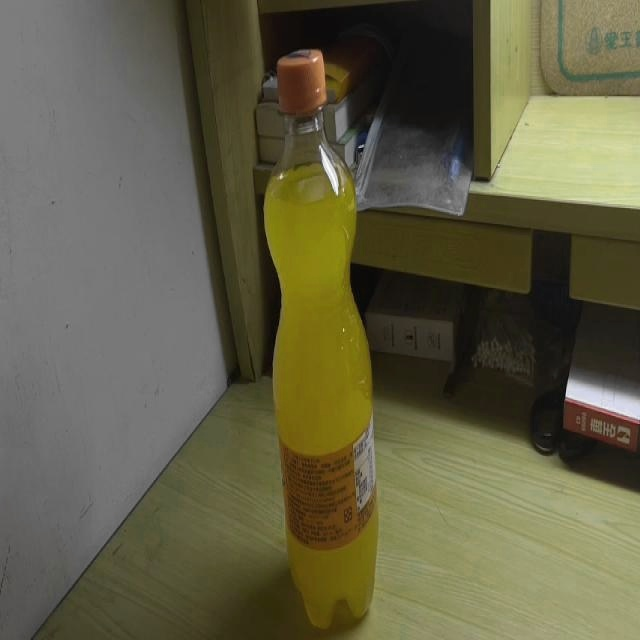Fanta: (262, 48, 378, 631)
